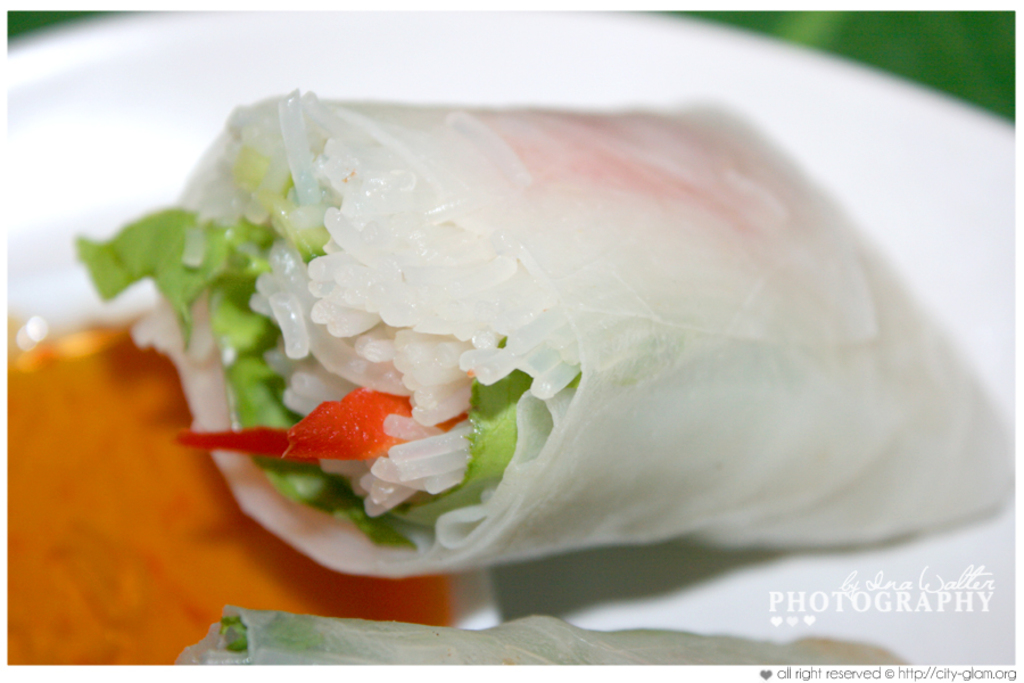sushi: (76, 82, 1022, 576), (182, 603, 915, 669)
